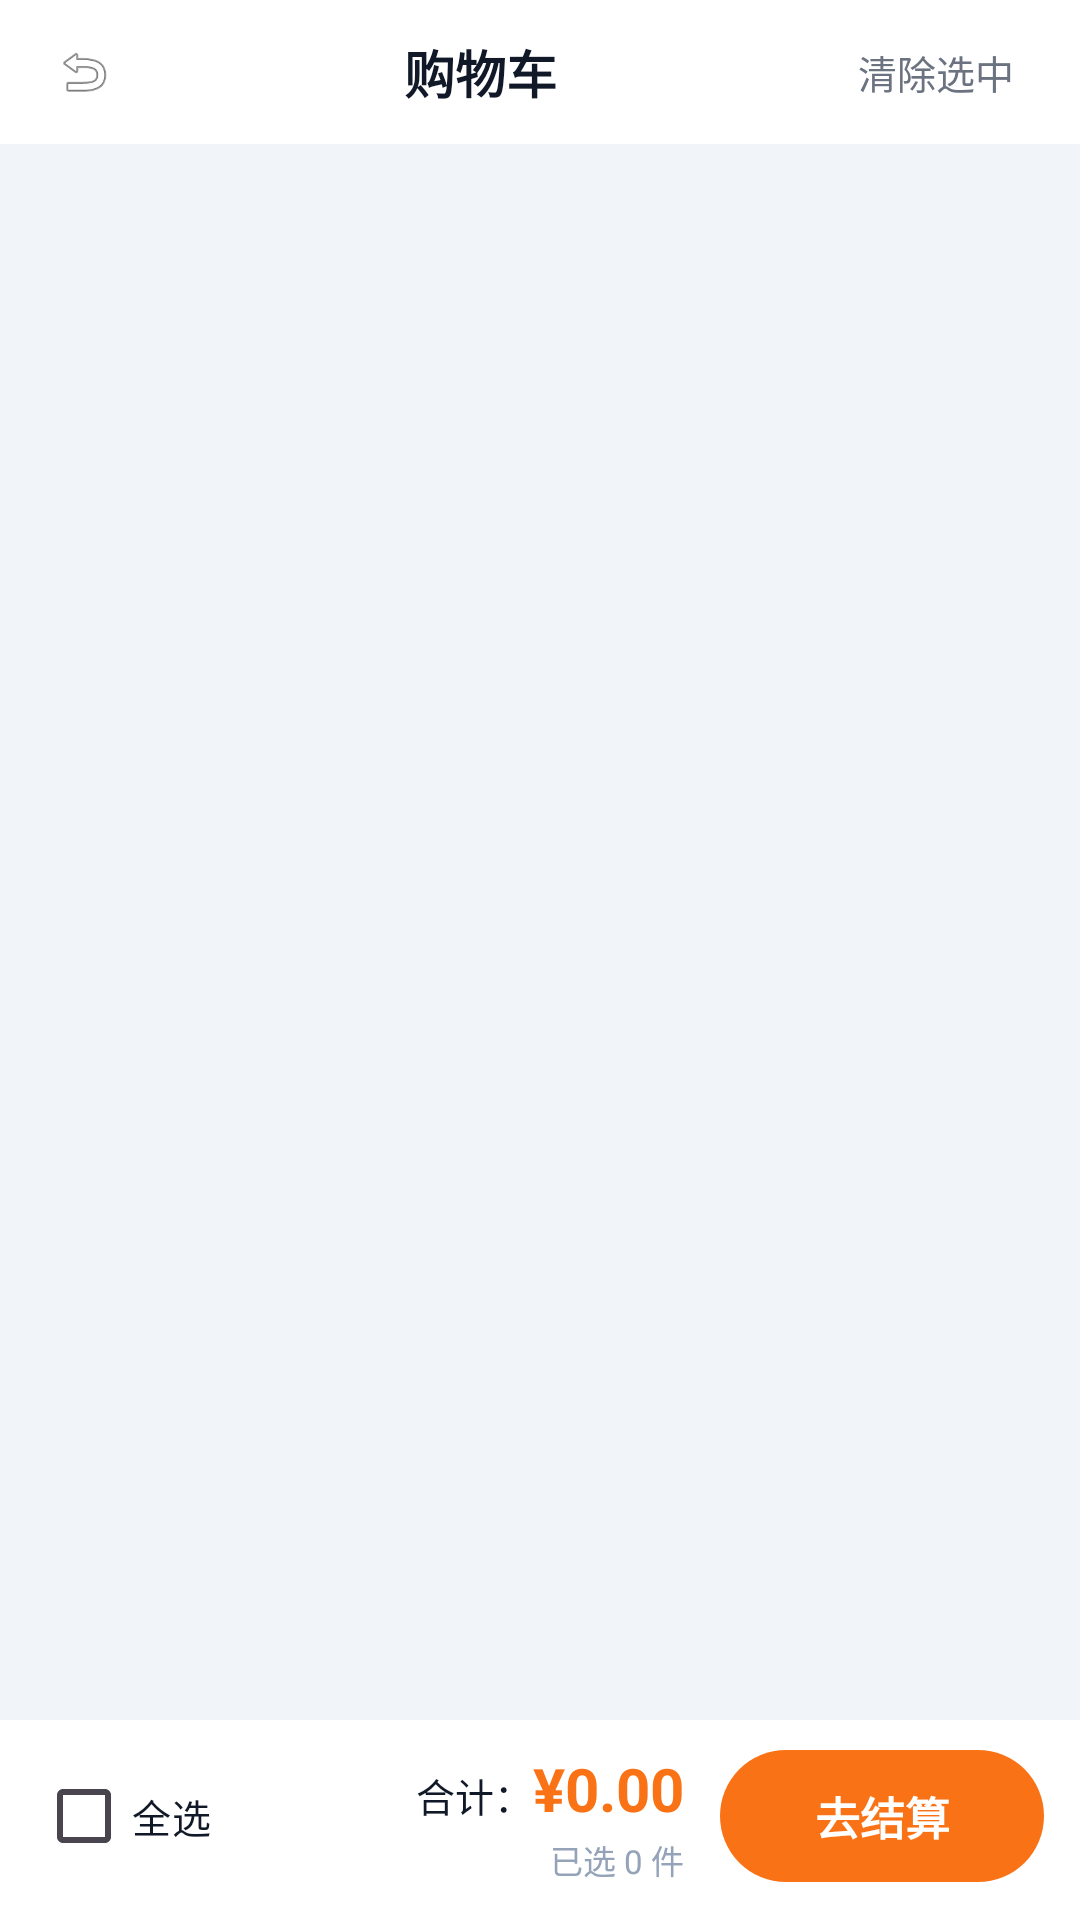

Where icons sit on this 1080px x 1920px app screen, as [x1, y1, x2, y2]:
revert: [63, 53, 107, 92]
